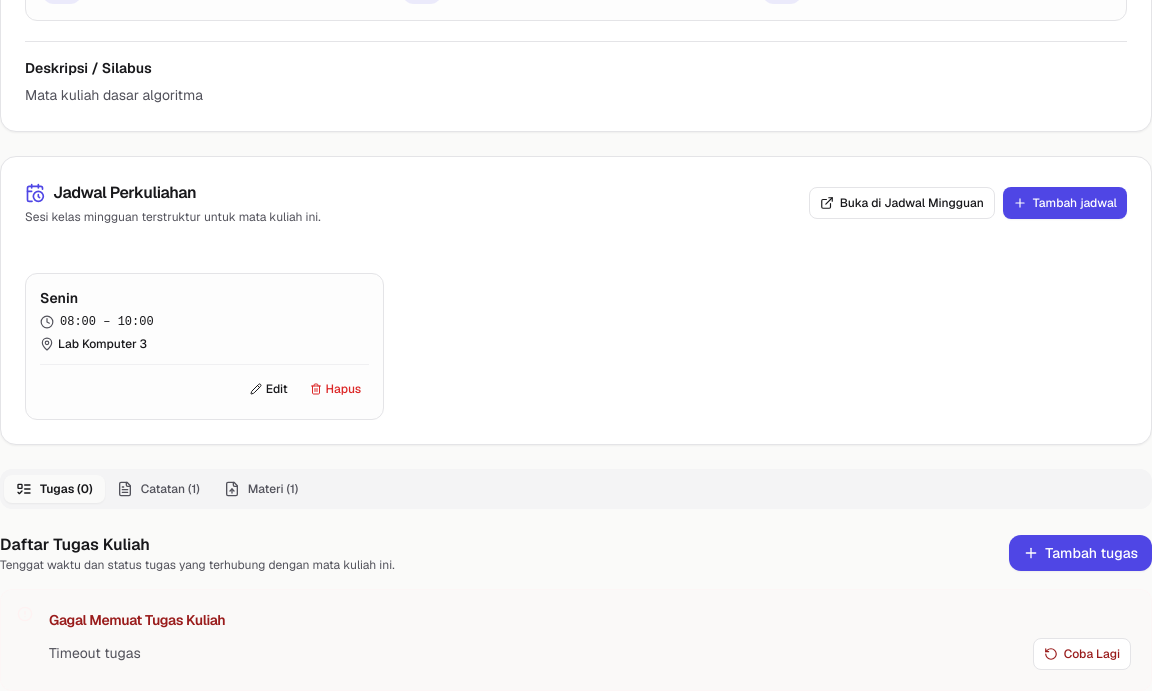
Test: CourseDetailPage - Error States & Resilience Behavioral Tests › 5. Isolasi kegagalan: kegagalan API tugas tidak merusak atau mengosongkan jadwal, catatan, dan materi
The width and height of the screenshot is (1152, 691).
(page scrolled)
Expected: the text "Senin" is shown, [40,288,78,308]
Expected: the text "08:00 – 10:00" is shown, [60,314,154,330]
Pindah ke Tab Catatan
Click the tab "Catatan (1)" at (158, 489), box [105,475,212,503]
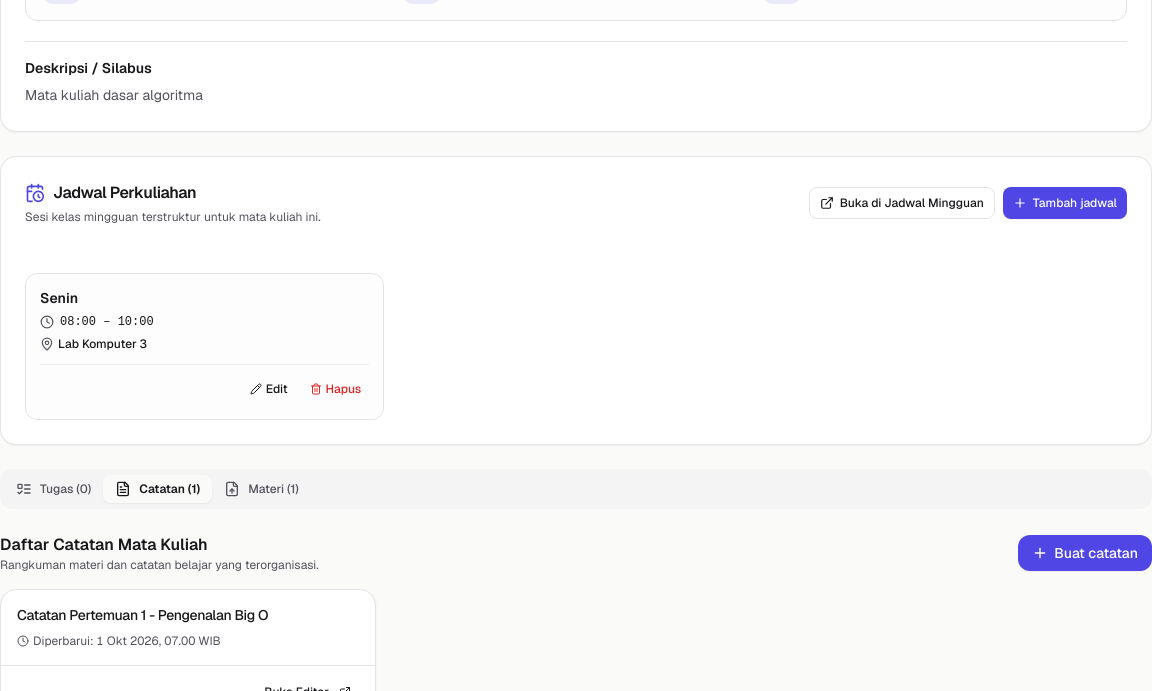
Expected: the link "Catatan Pertemuan 1 - Pengenalan Big O" is shown, [17,606,268,624]
Expected: the message "Gagal Memuat Tugas Kuliah Timeout tugas Coba Lagi" is gone
Pindah ke Tab Materi
Click the tab "Materi (1)" at (262, 489), box [212,475,311,503]
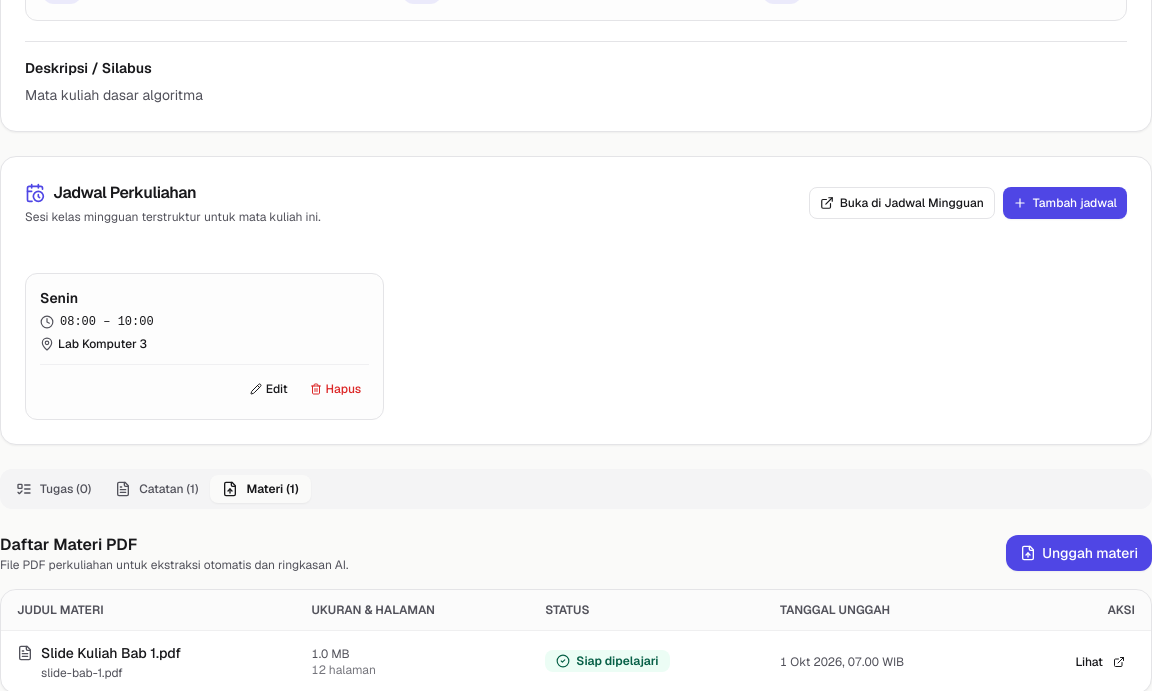
Expected: the message "Gagal Memuat Tugas Kuliah Timeout tugas Coba Lagi" is not shown
Expected: the text "Slide Kuliah Bab 1.pdf" is shown, [41,643,181,663]
